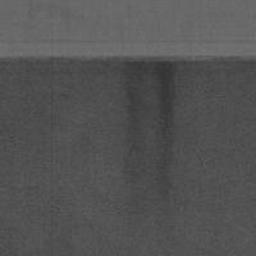Welding line: (0, 54, 256, 63)
